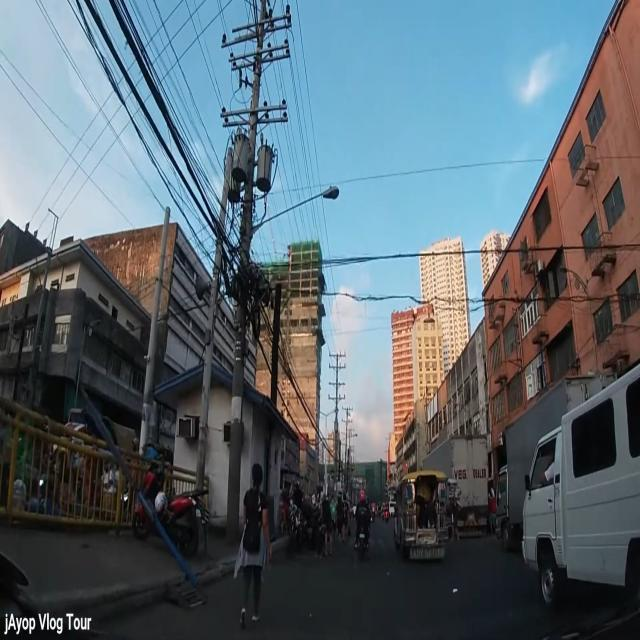jeepney: (392, 471, 450, 567)
motorcycle: (134, 453, 203, 566), (354, 491, 372, 561), (384, 502, 388, 524)
truck: (522, 363, 640, 611), (496, 376, 614, 551), (423, 432, 491, 544)
